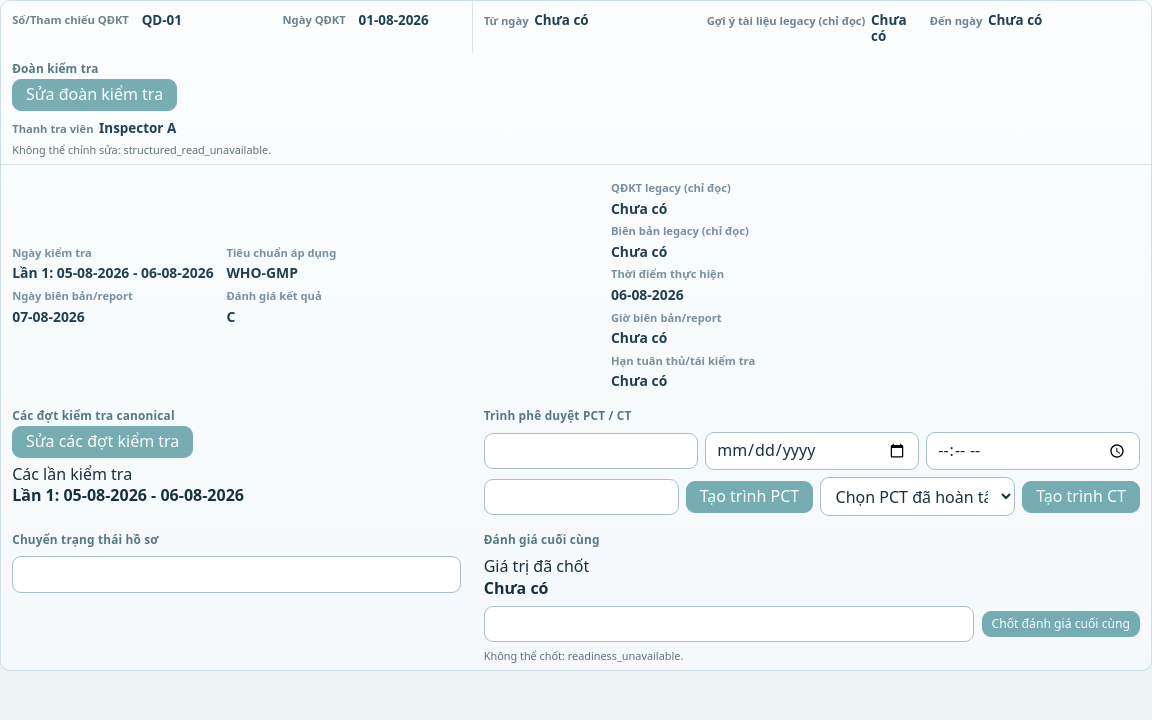
Scenario: inspection presentation preserves canonical owners › keeps outcome draft and version after 403 without retry
Press F2 in the button named "Sửa Kết quả kiểm tra", box [226, 306, 235, 326]
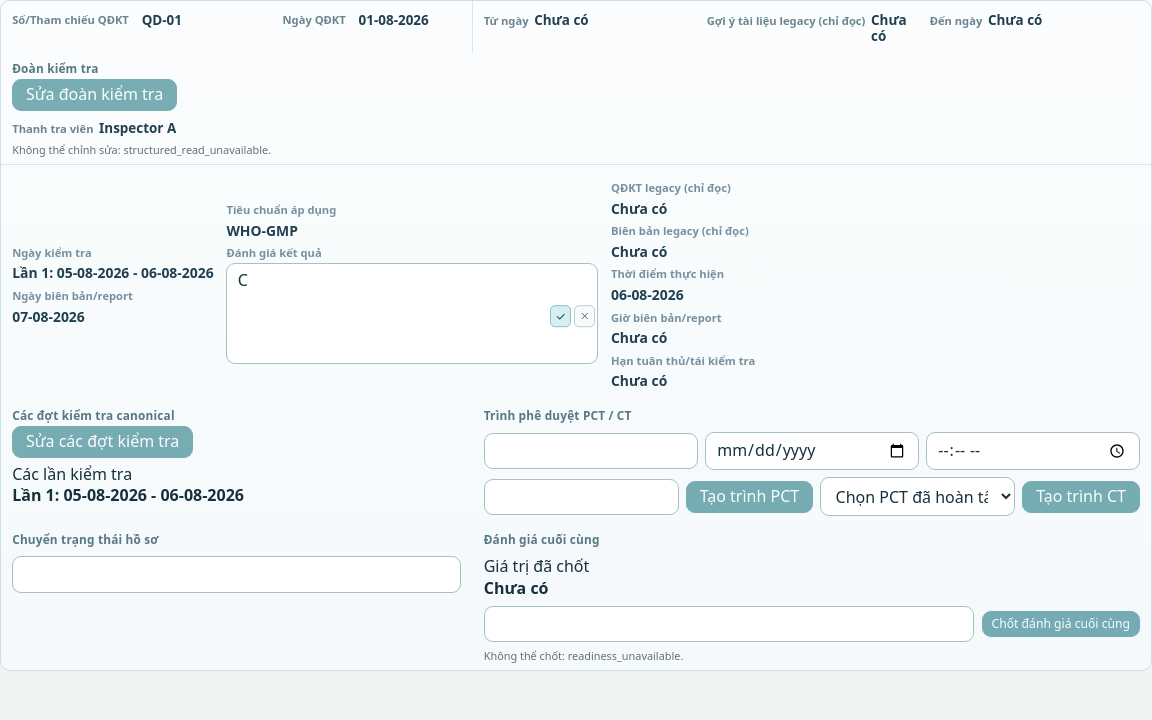
Replace the text in the text box named "Kết quả kiểm tra" with "draft outcome": (412, 314) [226, 263, 598, 364]
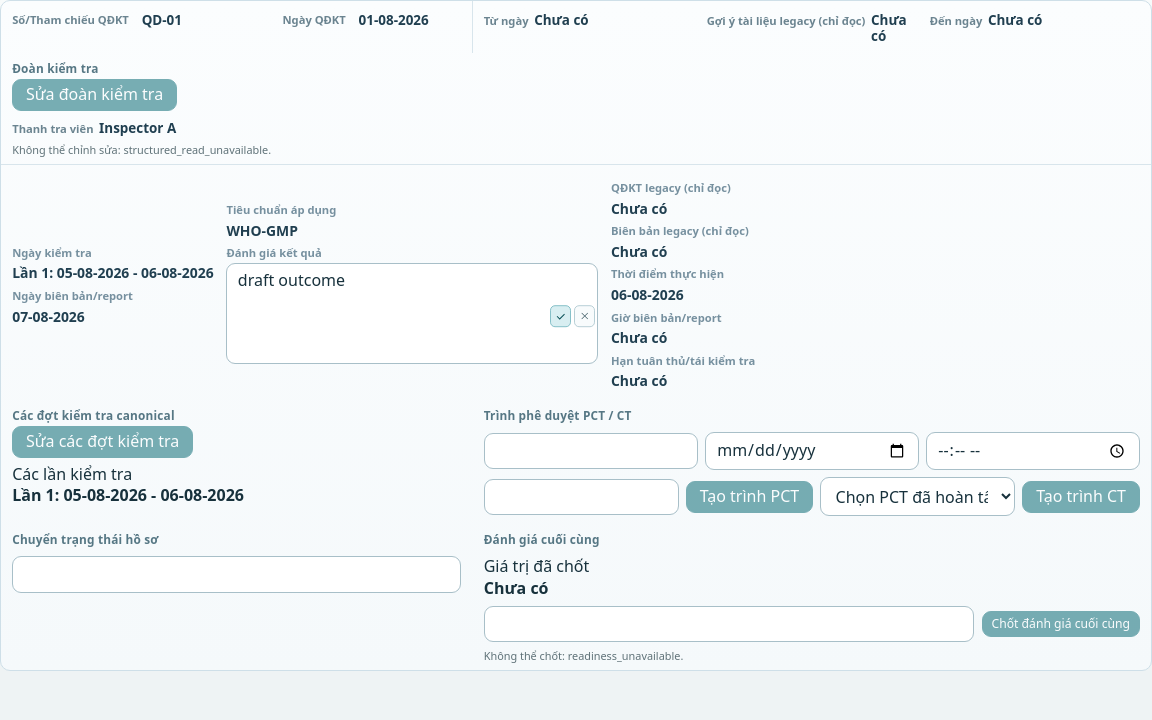
Click the button named "Lưu Đánh giá kết quả": (560, 316) [550, 306, 571, 327]
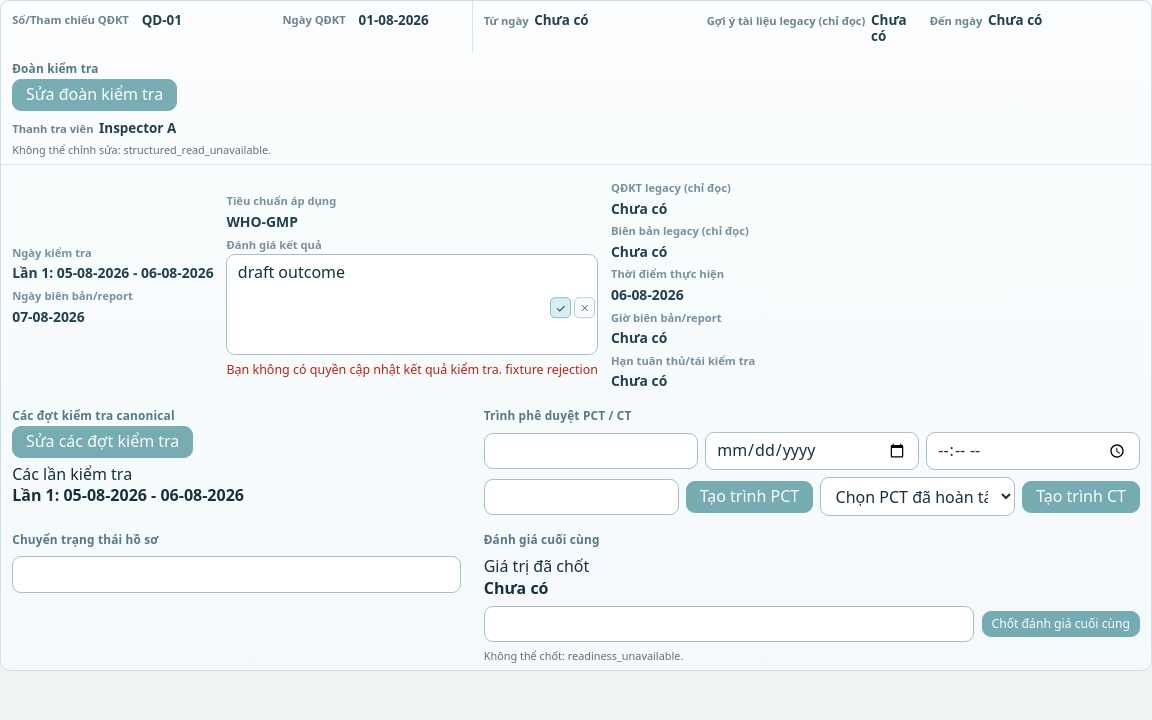
Expected: the message shows "không có quyền", [226, 361, 598, 378]
Press Escape in the text box named "Kết quả kiểm tra", box [226, 254, 598, 355]
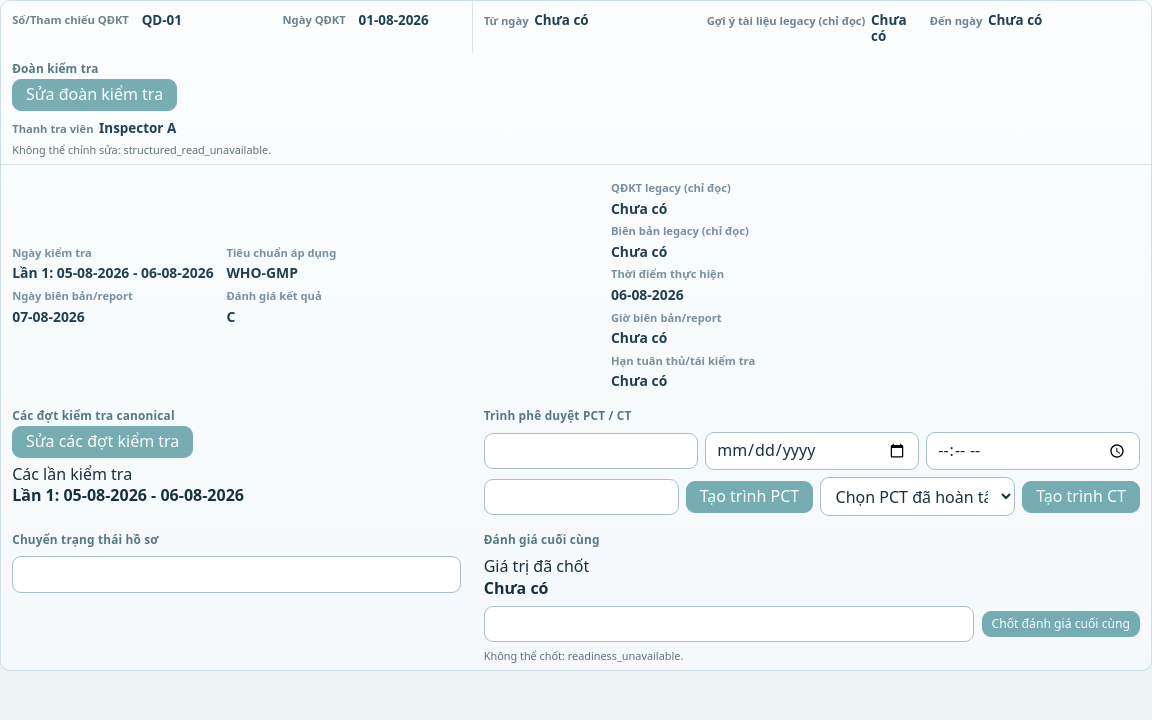
Expected: the button named "Sửa Kết quả kiểm tra" reads "C", [226, 306, 235, 326]
